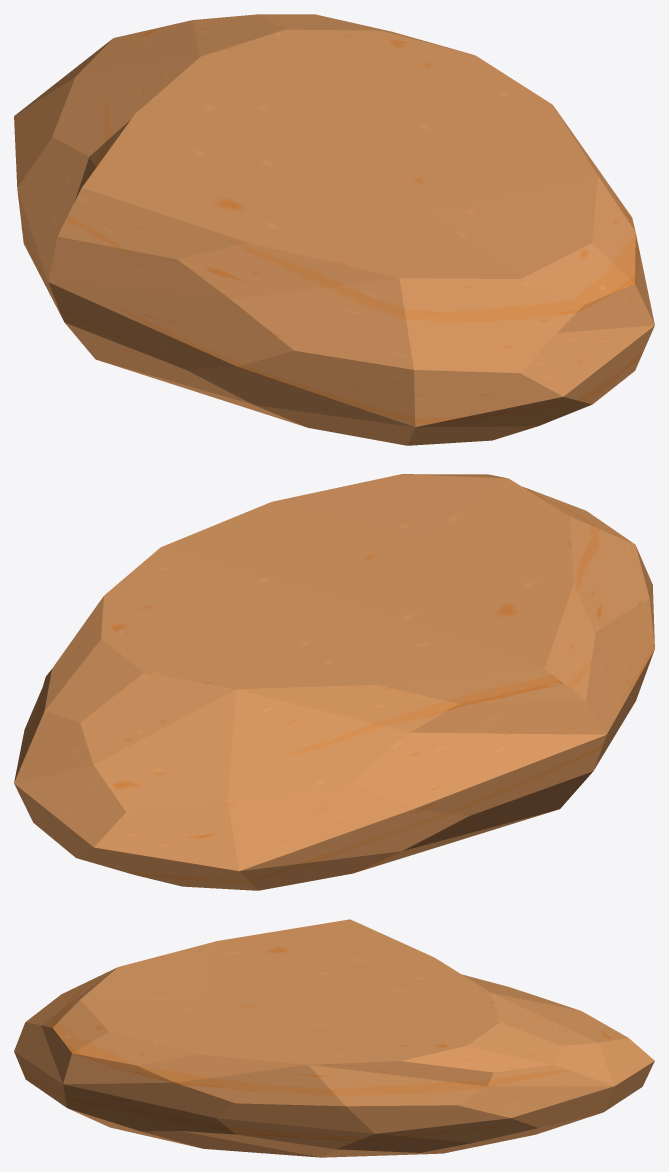
Rendered from rock2.fbx.
3 views of the same model, one above another, from view 1: azimuth 30°, elevation 25°; view 2: azimuth 150°, elevation 25°; view 3: azimuth 270°, elevation 25° (orthographic). The views are drawn at different scales.
Visible parts, largest first — view 1: Plane; view 2: Plane; view 3: Plane.
Part boxes in pixels (<box>): Plane: <box>14,14,654,445</box>; Plane: <box>14,474,654,890</box>; Plane: <box>14,919,654,1157</box>.
Size of the model in its own units: 149 by 45.05 by 241.
